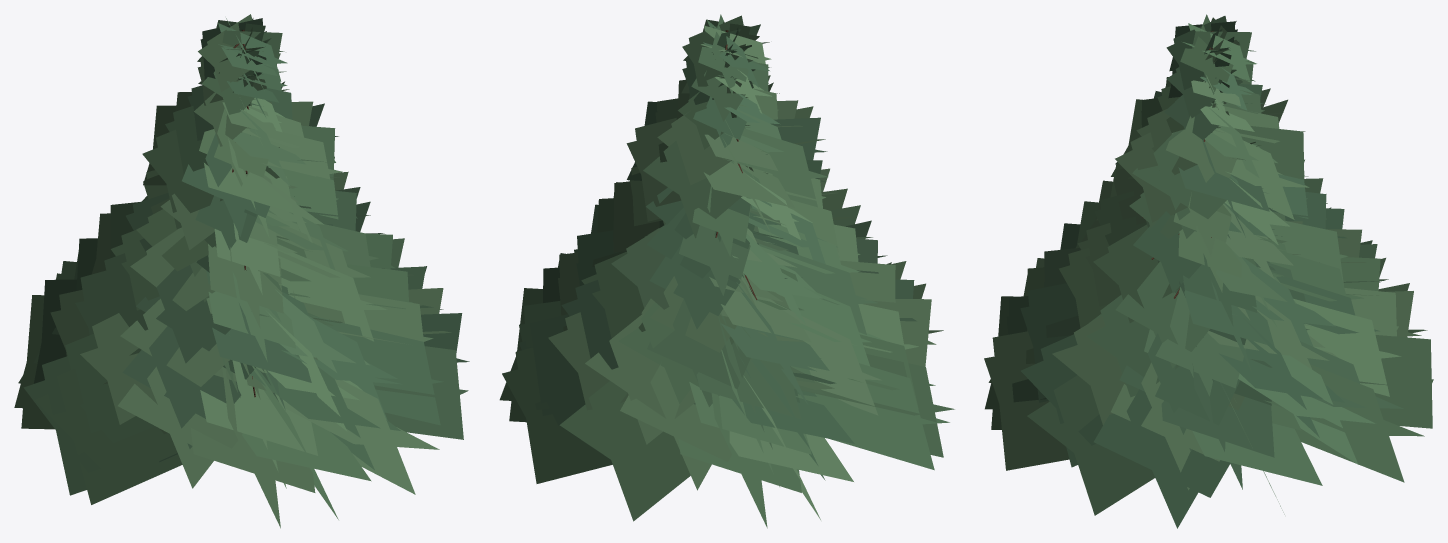
Rendered from conifer_1.glb.
The picture shows the model from 3 angles, left to right: view 1: azimuth 30°, elevation 25°; view 2: azimuth 150°, elevation 25°; view 3: azimuth 270°, elevation 25°; orthographic projection.
Visible parts, largest first — view 1: conifer_1; view 2: conifer_1; view 3: conifer_1.
Part boxes in pixels (x1,y1,x2,y2): conifer_1: [14, 14, 469, 528]; conifer_1: [499, 14, 954, 528]; conifer_1: [984, 14, 1433, 528].
Bounding box in the file's own units: 1 × 1 × 0.9884.
